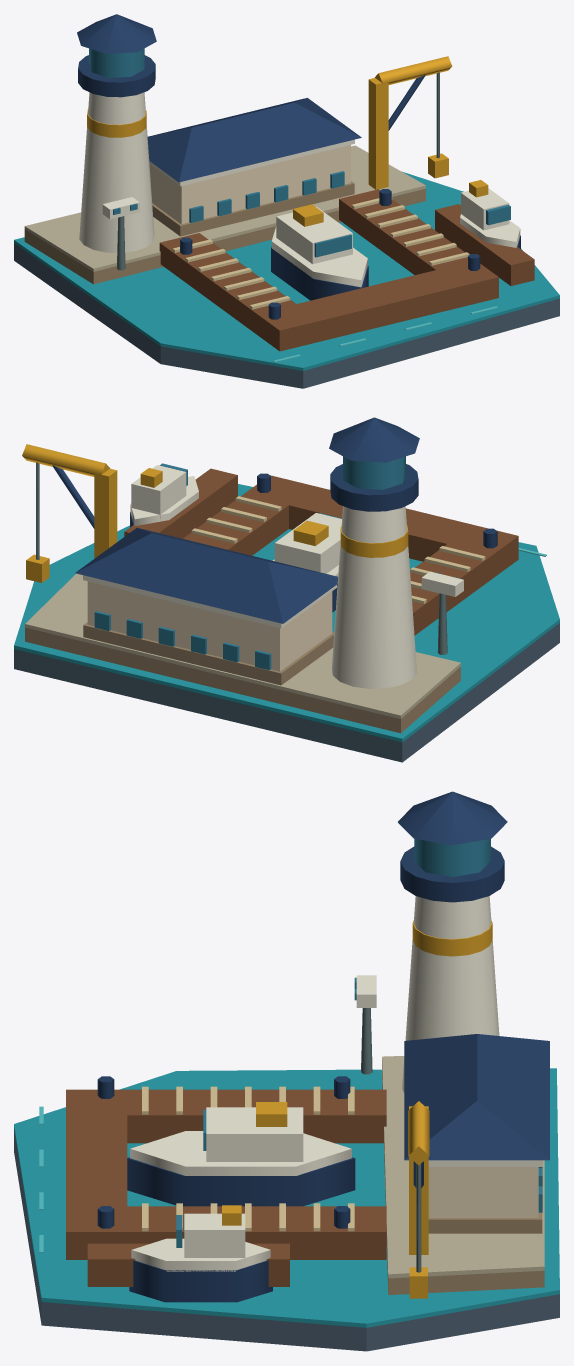
Rendered from port-lv2.glb.
3 renders of one model, top to bottom at view 1: azimuth 30°, elevation 25°; view 2: azimuth 150°, elevation 25°; view 3: azimuth 270°, elevation 25°, orthographic. The views are drawn at different scales.
Parts seen in each view (by area): view 1: foundation_water, pier_wood, foundation_slate, warehouse_roof_naval, lighthouse_white, warehouse_cream, vessel_white, quay_paving, cranes_ochre, outer_pier_wood, pier_planks_sand, quay_stoneDark (+12 smaller); view 2: foundation_water, warehouse_roof_naval, lighthouse_white, pier_wood, foundation_slate, warehouse_cream, quay_paving, quay_stoneDark, vessel_white, warehouse_stoneDark, cranes_ochre, lighthouse_roof_naval (+13 smaller); view 3: foundation_water, pier_wood, warehouse_roof_naval, vessel_white, foundation_slate, vessel_naval, lighthouse_white, quay_paving, warehouse_cream, lighthouse_roof_naval, lantern_balcony_naval, outer_pier_wood (+11 smaller).
Boxes of the visible parts, bbox=[...] form: foundation_water: bbox=[14, 171, 559, 370]; pier_wood: bbox=[159, 189, 498, 351]; foundation_slate: bbox=[14, 243, 559, 388]; warehouse_roof_naval: bbox=[147, 98, 361, 182]; lighthouse_white: bbox=[79, 92, 154, 252]; warehouse_cream: bbox=[149, 145, 350, 224]; vessel_white: bbox=[271, 188, 520, 287]; quay_paving: bbox=[24, 145, 425, 271]; cranes_ochre: bbox=[368, 56, 452, 189]; outer_pier_wood: bbox=[435, 204, 534, 285]; pier_planks_sand: bbox=[172, 197, 469, 309]; quay_stoneDark: bbox=[24, 188, 425, 284]; foundation_water: bbox=[14, 484, 559, 742]; warehouse_roof_naval: bbox=[75, 528, 337, 623]; lighthouse_white: bbox=[331, 506, 416, 688]; pier_wood: bbox=[183, 475, 518, 635]; foundation_slate: bbox=[14, 623, 559, 762]; warehouse_cream: bbox=[87, 581, 332, 671]; quay_paving: bbox=[25, 573, 460, 718]; quay_stoneDark: bbox=[25, 627, 460, 733]; vessel_white: bbox=[130, 465, 341, 576]; warehouse_stoneDark: bbox=[83, 622, 334, 685]; cranes_ochre: bbox=[22, 444, 117, 558]; lighthouse_roof_naval: bbox=[329, 417, 419, 462]; foundation_water: bbox=[14, 1068, 559, 1327]; pier_wood: bbox=[66, 1089, 386, 1259]; warehouse_roof_naval: bbox=[404, 1034, 549, 1160]; vessel_white: bbox=[130, 1107, 351, 1271]; foundation_slate: bbox=[14, 1129, 559, 1351]; vessel_naval: bbox=[127, 1157, 355, 1302]; lighthouse_white: bbox=[402, 896, 499, 1092]; quay_paving: bbox=[382, 1056, 544, 1278]; warehouse_cream: bbox=[428, 1167, 538, 1217]; lighthouse_roof_naval: bbox=[398, 791, 507, 845]; lantern_balcony_naval: bbox=[400, 846, 504, 902]; outer_pier_wood: bbox=[87, 1243, 289, 1286].
Size of the model in its own units: 1 by 0.632 by 0.9036.
